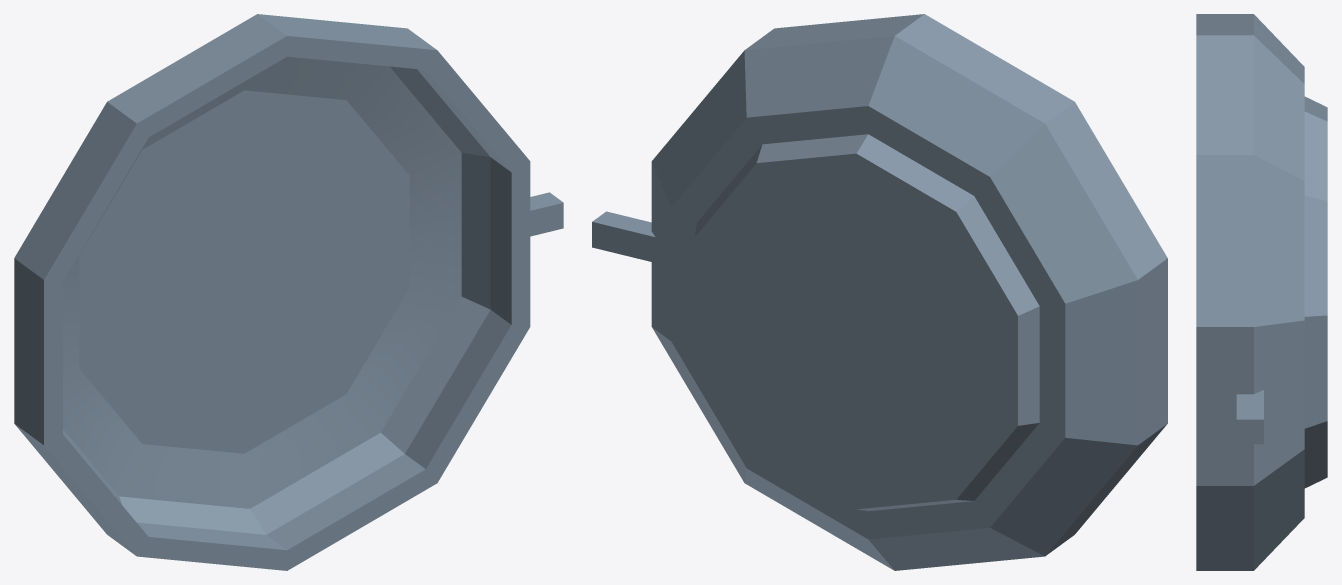
File: fryingPan.obj
The picture shows the model from 3 angles, left to right: view 1: azimuth 30°, elevation 25°; view 2: azimuth 150°, elevation 25°; view 3: azimuth 270°, elevation 25°; orthographic projection. The views are drawn at different scales.
Parts seen in each view (by area): view 1: fryingPan; view 2: fryingPan; view 3: fryingPan.
Part boxes in pixels (bbox=[...]): fryingPan: bbox=[14, 14, 563, 570]; fryingPan: bbox=[592, 14, 1167, 570]; fryingPan: bbox=[1196, 14, 1327, 570].
Bounding box in the file's own units: 0.3475 × 0.3287 × 0.0759.
